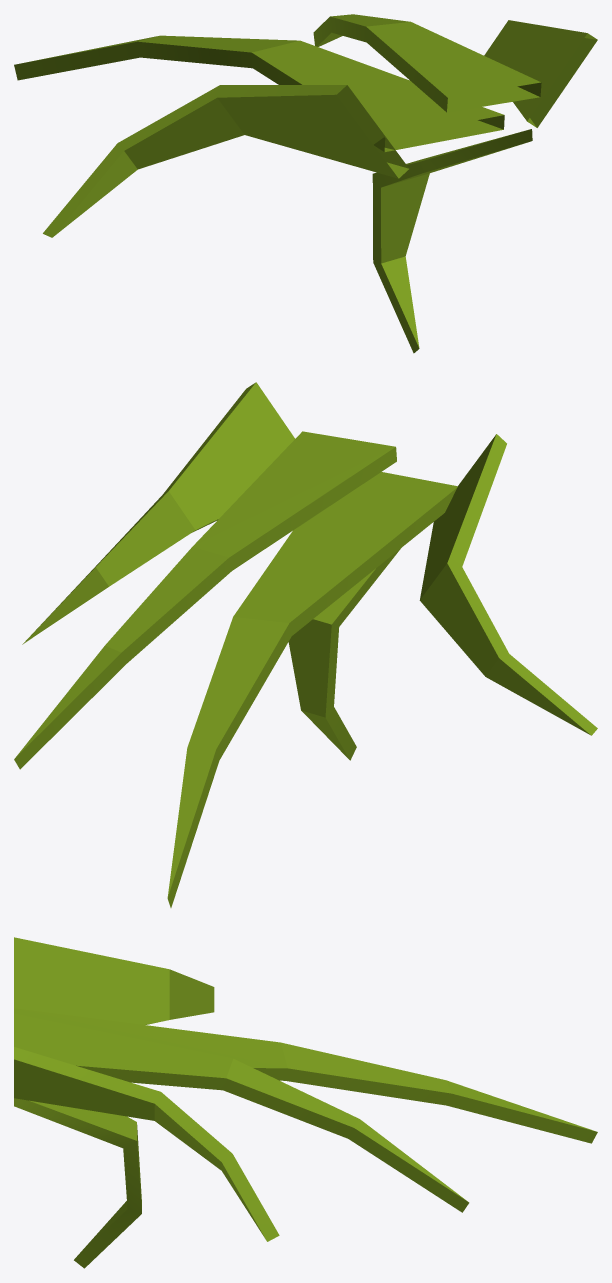
The model's file is LowPoly - Grass 03.fbx.
3 renders of one model, top to bottom at view 1: azimuth 30°, elevation 25°; view 2: azimuth 150°, elevation 25°; view 3: azimuth 270°, elevation 25°, orthographic. The views are drawn at different scales.
Visible parts, largest first — view 1: LowPoly - Grass 03; view 2: LowPoly - Grass 03; view 3: LowPoly - Grass 03.
Part boxes in pixels (box(x1,y1,x2,y2)): LowPoly - Grass 03: box(14, 14, 597, 353); LowPoly - Grass 03: box(14, 382, 597, 907); LowPoly - Grass 03: box(14, 937, 597, 1268).
Bounding box in the file's own units: 62.36 × 36.46 × 67.57.
